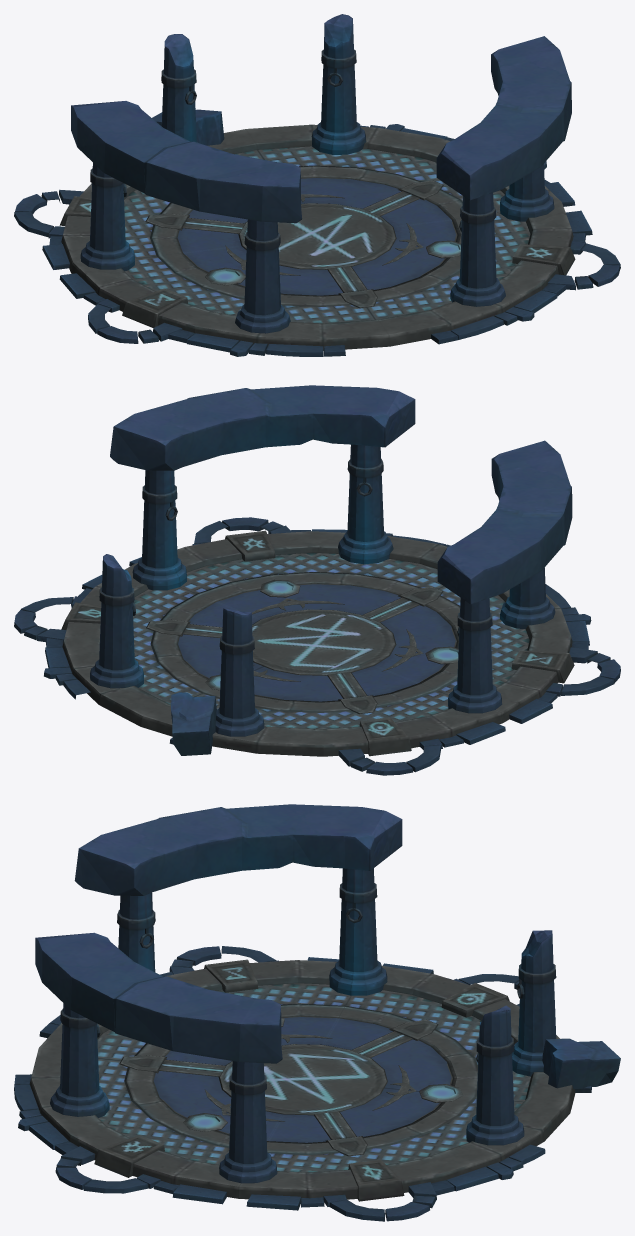
Rendered from Area05_1.fbx.
The picture shows the model from 3 angles, top to bottom: view 1: azimuth 30°, elevation 25°; view 2: azimuth 150°, elevation 25°; view 3: azimuth 270°, elevation 25°; orthographic projection. The views are drawn at different scales.
Parts seen in each view (by area): view 1: Area05_1; view 2: Area05_1; view 3: Area05_1.
Part boxes in pixels (x1,y1,x2,y2): Area05_1: (14,14,620,356); Area05_1: (14,385,620,775); Area05_1: (14,804,620,1221).
Bounding box in the file's own units: 4966 × 1481 × 4695.
